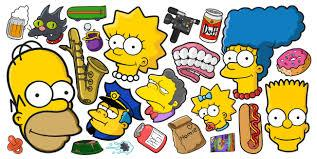Bart: (259, 79, 312, 151)
Homer: (5, 40, 85, 159)
Lisa: (98, 3, 171, 82)
Maggie: (188, 85, 238, 132)
Marge: (218, 1, 311, 101)
